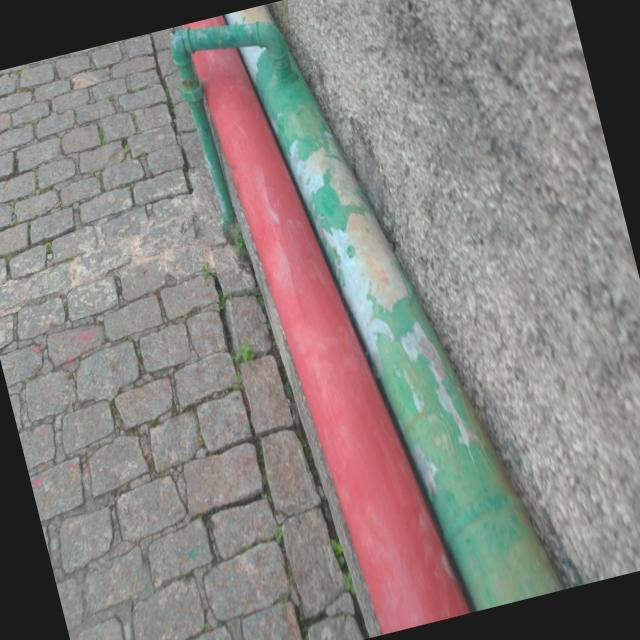gas: (225, 4, 564, 607), (185, 15, 469, 634), (166, 23, 290, 223)
